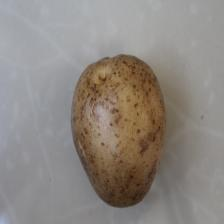Diseased-fungal potato: (69, 51, 166, 208)
